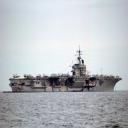Portanaves: (10, 44, 124, 95)
